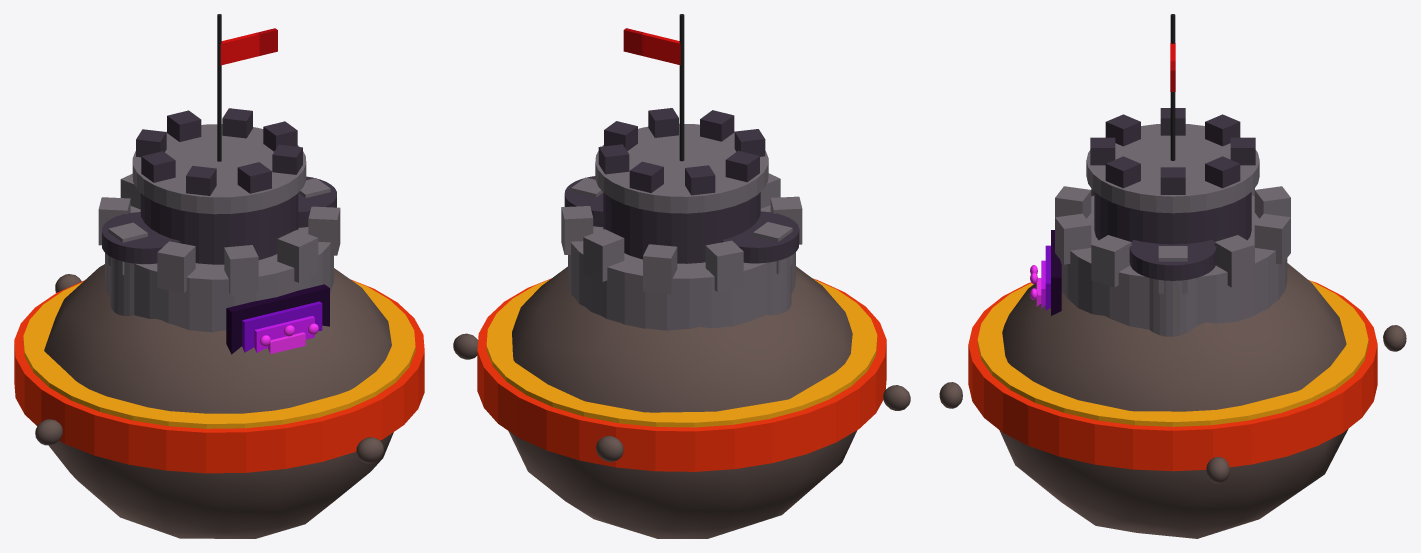
Rendered from planeta_castillo_lava_optimizado_medium.obj.
3 views of the same model, side by side, from view 1: azimuth 30°, elevation 25°; view 2: azimuth 150°, elevation 25°; view 3: azimuth 270°, elevation 25° (orthographic).
Visible parts, largest first — view 1: Planeta_Roca, Plataforma_Lava_Curva, Lava_Superior, Corona_Central, Fortaleza_Base, Fortaleza_Superior, Portal_Exterior, Corona_Izquierda, Almena_Inferior_09, Almena_Inferior_07, Almena_Inferior_08, Portal_Medio (+20 smaller); view 2: Planeta_Roca, Plataforma_Lava_Curva, Fortaleza_Base, Lava_Superior, Corona_Central, Fortaleza_Superior, Corona_Izquierda, Almena_Inferior_03, Almena_Inferior_05, Almena_Inferior_04, Torre_Izquierda, Almena_Inferior_02 (+15 smaller); view 3: Planeta_Roca, Plataforma_Lava_Curva, Lava_Superior, Fortaleza_Base, Corona_Central, Fortaleza_Superior, Corona_Derecha, Torre_Derecha, Almena_Inferior_10, Almena_Inferior_02, Almena_Inferior_09, Almena_Inferior_03 (+13 smaller).
Part boxes in pixels (x1=…): Planeta_Roca: x1=44, y1=264, x2=393, y2=538; Plataforma_Lava_Curva: x1=14, y1=279, x2=424, y2=473; Lava_Superior: x1=23, y1=280, x2=415, y2=428; Corona_Central: x1=132, y1=124, x2=306, y2=214; Fortaleza_Base: x1=105, y1=206, x2=333, y2=332; Fortaleza_Superior: x1=140, y1=193, x2=298, y2=264; Portal_Exterior: x1=226, y1=284, x2=329, y2=354; Corona_Izquierda: x1=102, y1=212, x2=180, y2=264; Almena_Inferior_09: x1=277, y1=230, x2=318, y2=282; Almena_Inferior_07: x1=157, y1=241, x2=195, y2=293; Almena_Inferior_08: x1=224, y1=245, x2=258, y2=295; Portal_Medio: x1=242, y1=301, x2=322, y2=352; Planeta_Roca: x1=508, y1=266, x2=857, y2=538; Plataforma_Lava_Curva: x1=477, y1=278, x2=886, y2=471; Fortaleza_Base: x1=568, y1=205, x2=795, y2=330; Lava_Superior: x1=486, y1=279, x2=877, y2=427; Corona_Central: x1=595, y1=123, x2=768, y2=213; Fortaleza_Superior: x1=603, y1=192, x2=760, y2=263; Corona_Izquierda: x1=721, y1=211, x2=799, y2=263; Almena_Inferior_03: x1=583, y1=229, x2=624, y2=281; Almena_Inferior_05: x1=705, y1=240, x2=743, y2=292; Almena_Inferior_04: x1=643, y1=244, x2=677, y2=294; Torre_Izquierda: x1=744, y1=256, x2=791, y2=315; Almena_Inferior_02: x1=561, y1=206, x2=593, y2=254; Planeta_Roca: x1=999, y1=263, x2=1348, y2=538; Plataforma_Lava_Curva: x1=968, y1=280, x2=1377, y2=471; Lava_Superior: x1=977, y1=280, x2=1368, y2=426; Fortaleza_Base: x1=1060, y1=195, x2=1287, y2=329; Corona_Central: x1=1086, y1=124, x2=1259, y2=213; Fortaleza_Superior: x1=1094, y1=192, x2=1251, y2=244; Corona_Derecha: x1=1129, y1=240, x2=1216, y2=280; Torre_Derecha: x1=1149, y1=278, x2=1196, y2=336; Almena_Inferior_10: x1=1091, y1=235, x2=1131, y2=287; Almena_Inferior_02: x1=1214, y1=235, x2=1254, y2=287; Almena_Inferior_09: x1=1055, y1=213, x2=1091, y2=264; Almena_Inferior_03: x1=1254, y1=213, x2=1290, y2=264.
Bounding box in the file's own units: 7.2 × 8.49 × 7.12.
